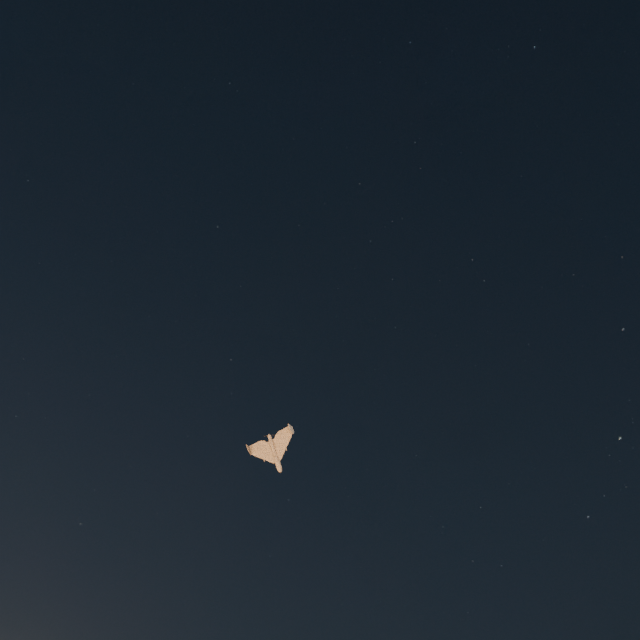shahed: (246, 423, 294, 472)
